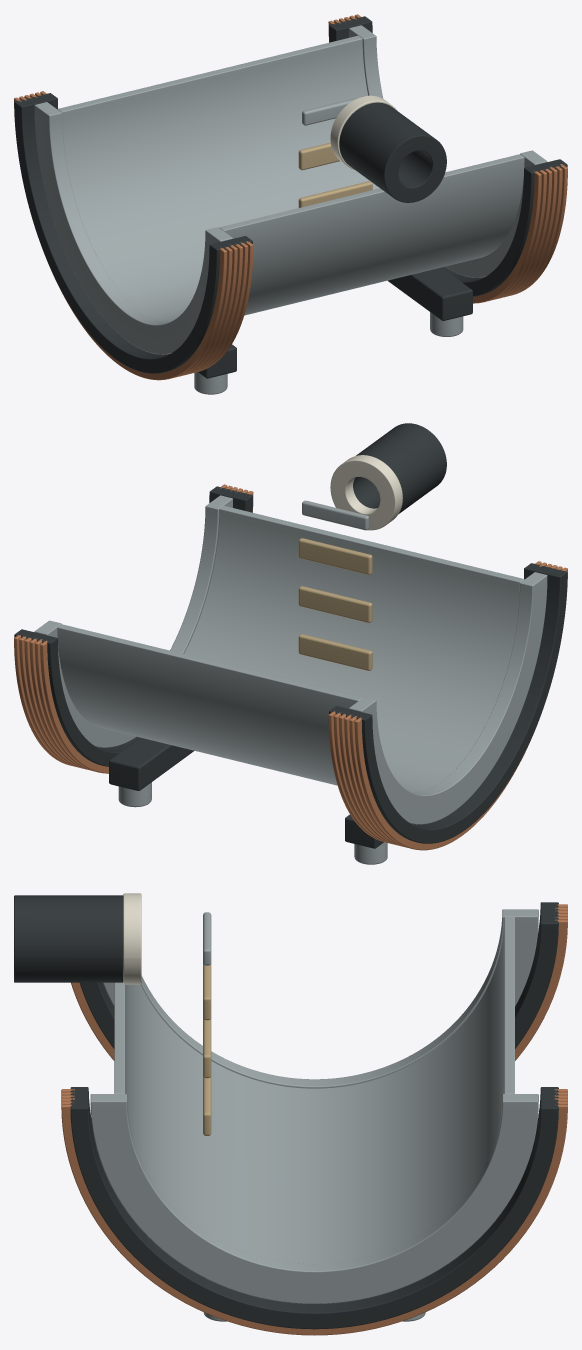
File: gyro.glb
3 views of the same model, one above another, from view 1: azimuth 30°, elevation 25°; view 2: azimuth 150°, elevation 25°; view 3: azimuth 270°, elevation 25° (orthographic). The views are drawn at different scales.
Parts seen in each view (by area): view 1: Cutaway gyro chamber, End flange.001, Field-coil former.001, Transverse source body, Field-coil former, Gyro chamber support.001, End flange, Axial-field coil conductor.001, Axial-field coil conductor.007, Transverse source ceramic break, Gyro-plane segmented collector, Gyro-plane segmented collector.001 (+14 smaller); view 2: Cutaway gyro chamber, End flange.001, Field-coil former.001, Transverse source body, End flange, Transverse source ceramic break, Field-coil former, Gyro chamber support.001, Axial-field coil conductor.001, Gyro-plane segmented collector, Gyro-plane segmented collector.001, Gyro-plane segmented collector.002 (+15 smaller); view 3: Cutaway gyro chamber, End flange, Field-coil former, Transverse source body, Axial-field coil conductor, End flange.001, Field-coil former.001, Axial-field coil conductor.006, Transverse source ceramic break.
Part boxes in pixels (<box>): Cutaway gyro chamber: <box>57,35,524,321</box>; End flange.001: <box>34,102,232,354</box>; Field-coil former.001: <box>14,93,252,373</box>; Transverse source body: <box>339,102,446,202</box>; Field-coil former: <box>329,16,567,296</box>; Gyro chamber support.001: <box>388,267,472,320</box>; End flange: <box>349,25,547,277</box>; Axial-field coil conductor.001: <box>14,97,227,380</box>; Axial-field coil conductor.007: <box>328,20,541,303</box>; Transverse source ceramic break: <box>330,95,397,169</box>; Gyro-plane segmented collector: <box>298,142,339,170</box>; Gyro-plane segmented collector.001: <box>298,181,372,207</box>; Cutaway gyro chamber: <box>57,506,524,792</box>; End flange.001: <box>349,572,547,824</box>; Field-coil former.001: <box>329,563,567,843</box>; Transverse source body: <box>353,423,446,514</box>; End flange: <box>34,495,232,747</box>; Transverse source ceramic break: <box>330,455,402,530</box>; Field-coil former: <box>14,486,252,766</box>; Gyro chamber support.001: <box>109,737,194,790</box>; Axial-field coil conductor.001: <box>354,567,567,850</box>; Gyro-plane segmented collector: <box>298,538,372,574</box>; Gyro-plane segmented collector.001: <box>298,586,372,622</box>; Gyro-plane segmented collector.002: <box>298,634,372,670</box>; Cutaway gyro chamber: <box>114,917,514,1263</box>; End flange: <box>90,1094,538,1303</box>; Field-coil former: <box>70,1087,558,1329</box>; Transverse source body: <box>14,895,123,982</box>; Axial-field coil conductor: <box>61,1104,567,1335</box>; End flange.001: <box>103,909,538,1088</box>; Field-coil former.001: <box>80,902,558,1048</box>; Axial-field coil conductor.006: <box>71,919,567,1060</box>; Transverse source ceramic break: <box>123,893,141,984</box>.
Size of the model in its own units: 2.68 by 2.1 by 3.04.
